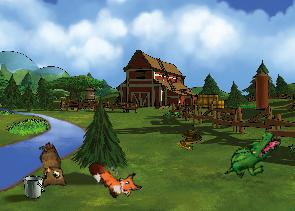crocodile: (222, 121, 283, 190)
fox: (85, 146, 145, 208)
owl: (26, 140, 71, 194)
